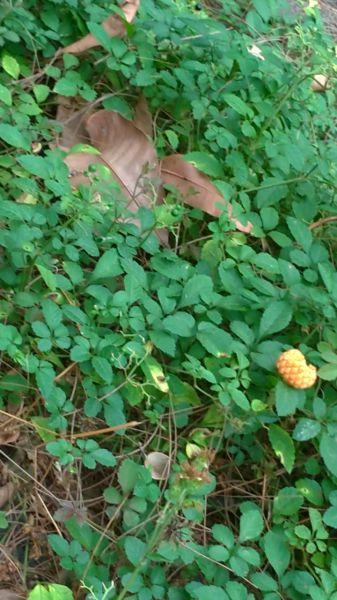eggs: (269, 346, 320, 396)
